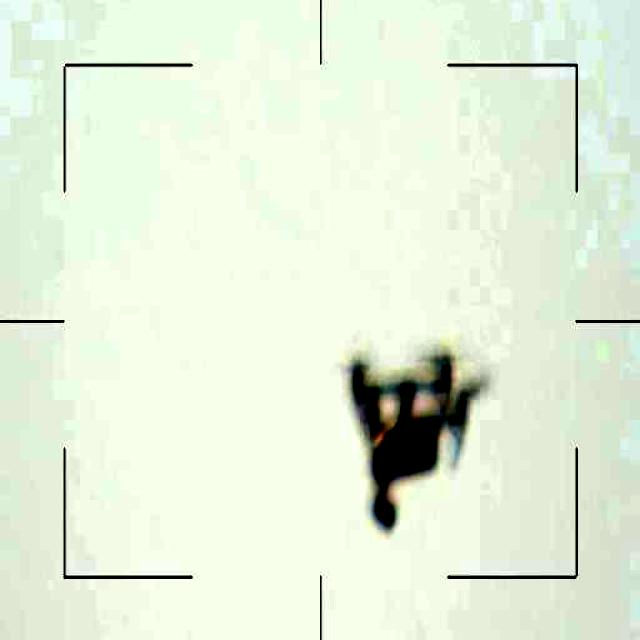bird: (335, 336, 481, 531)
